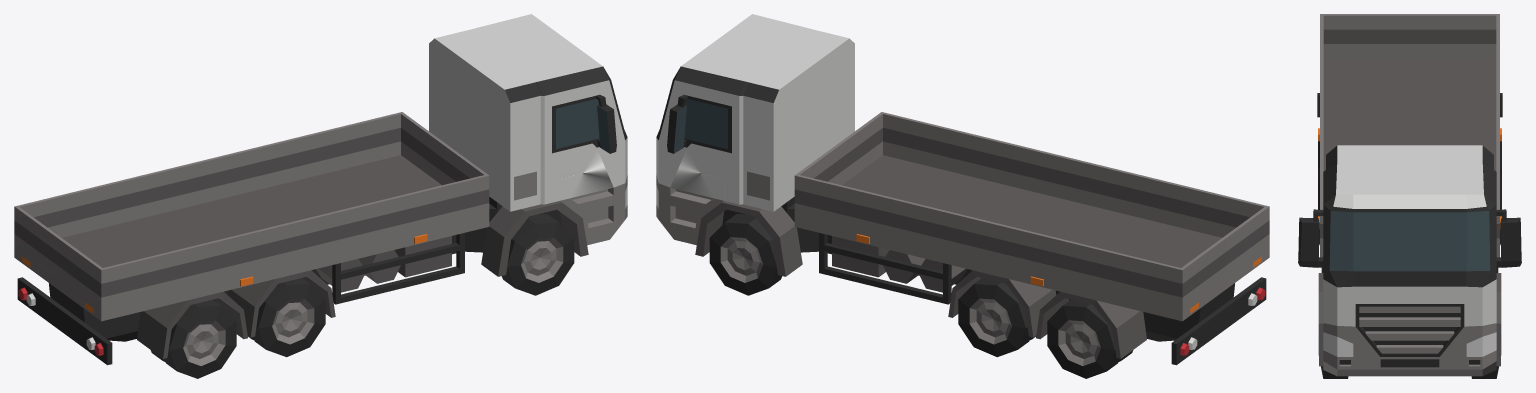
File: truck-flatbed.glb
The picture shows the model from 3 angles, left to right: view 1: azimuth 30°, elevation 25°; view 2: azimuth 150°, elevation 25°; view 3: azimuth 270°, elevation 25°; orthographic projection. The views are drawn at different scales.
Parts seen in each view (by area): view 1: car-truck-cargo-base, car-truck-cargo-wheel_FR, car-truck-cargo-wheel_BR1, car-truck-cargo-wheel_BR2; view 2: car-truck-cargo-base, car-truck-cargo-wheel_FL, car-truck-cargo-wheel_BL1, car-truck-cargo-wheel_BL2; view 3: car-truck-cargo-base.
Boxes of the visible parts, x1=… form: car-truck-cargo-base: x1=14, y1=14, x2=627, y2=365; car-truck-cargo-wheel_FR: x1=501, y1=214, x2=574, y2=295; car-truck-cargo-wheel_BR1: x1=248, y1=278, x2=325, y2=357; car-truck-cargo-wheel_BR2: x1=150, y1=299, x2=236, y2=378; car-truck-cargo-base: x1=656, y1=14, x2=1269, y2=365; car-truck-cargo-wheel_FL: x1=709, y1=214, x2=782, y2=295; car-truck-cargo-wheel_BL1: x1=958, y1=278, x2=1035, y2=357; car-truck-cargo-wheel_BL2: x1=1047, y1=299, x2=1133, y2=378; car-truck-cargo-base: x1=1298, y1=14, x2=1521, y2=376.
Bounding box in the file's own units: 8.53 × 3.16 × 2.99.
